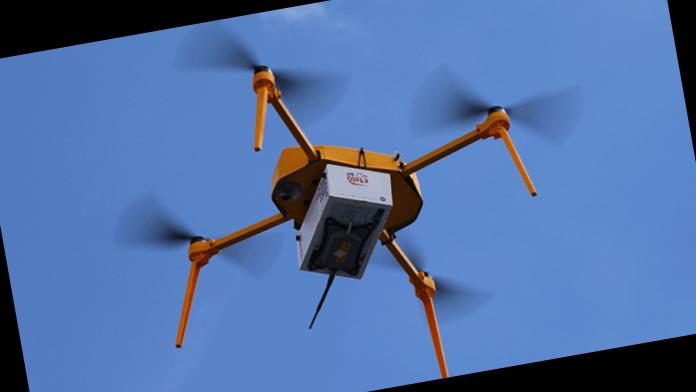drone: (79, 2, 562, 364)
